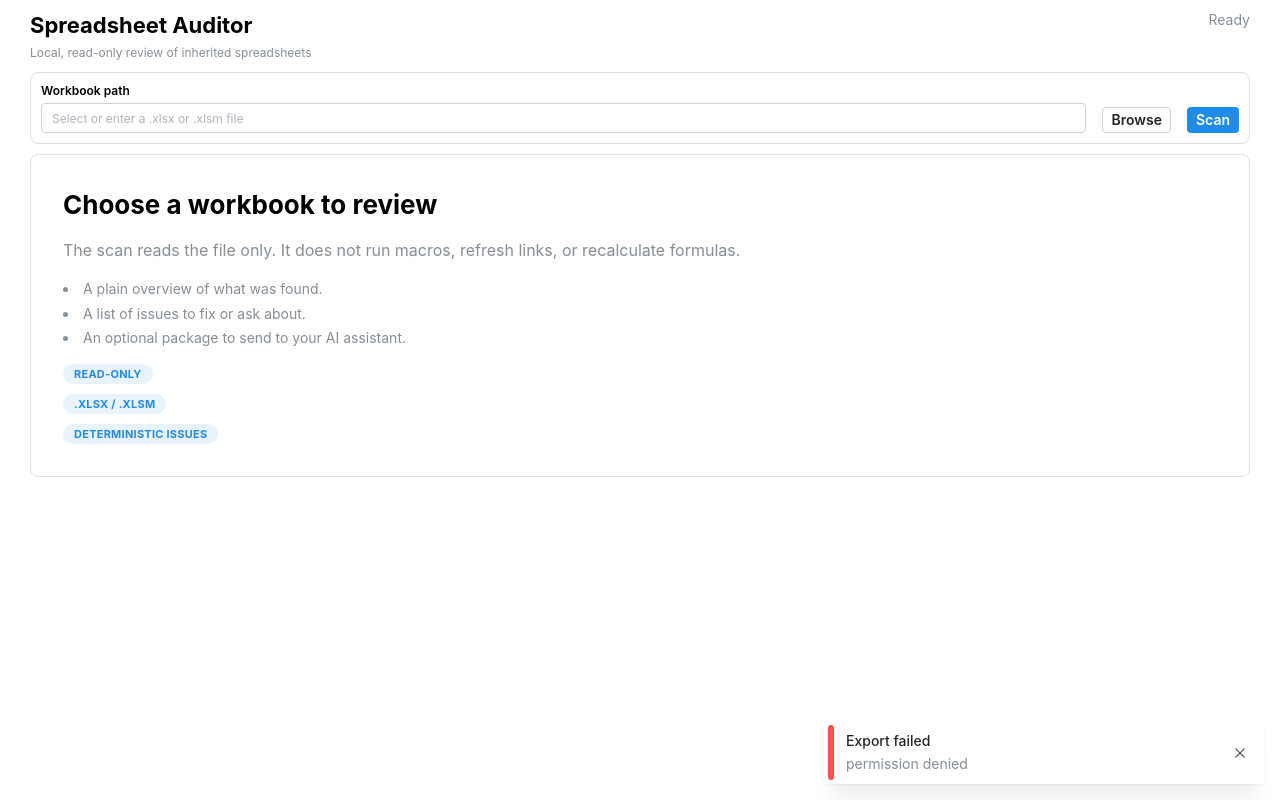
Test: App export flow › shows a clear message when the desktop bridge is unavailable during scan
Type "/tmp/sample.xlsx" into the field with test id "workbook-path".
click(564, 118); type("/tmp/sample.xlsx")  # box [41,103,1086,133]
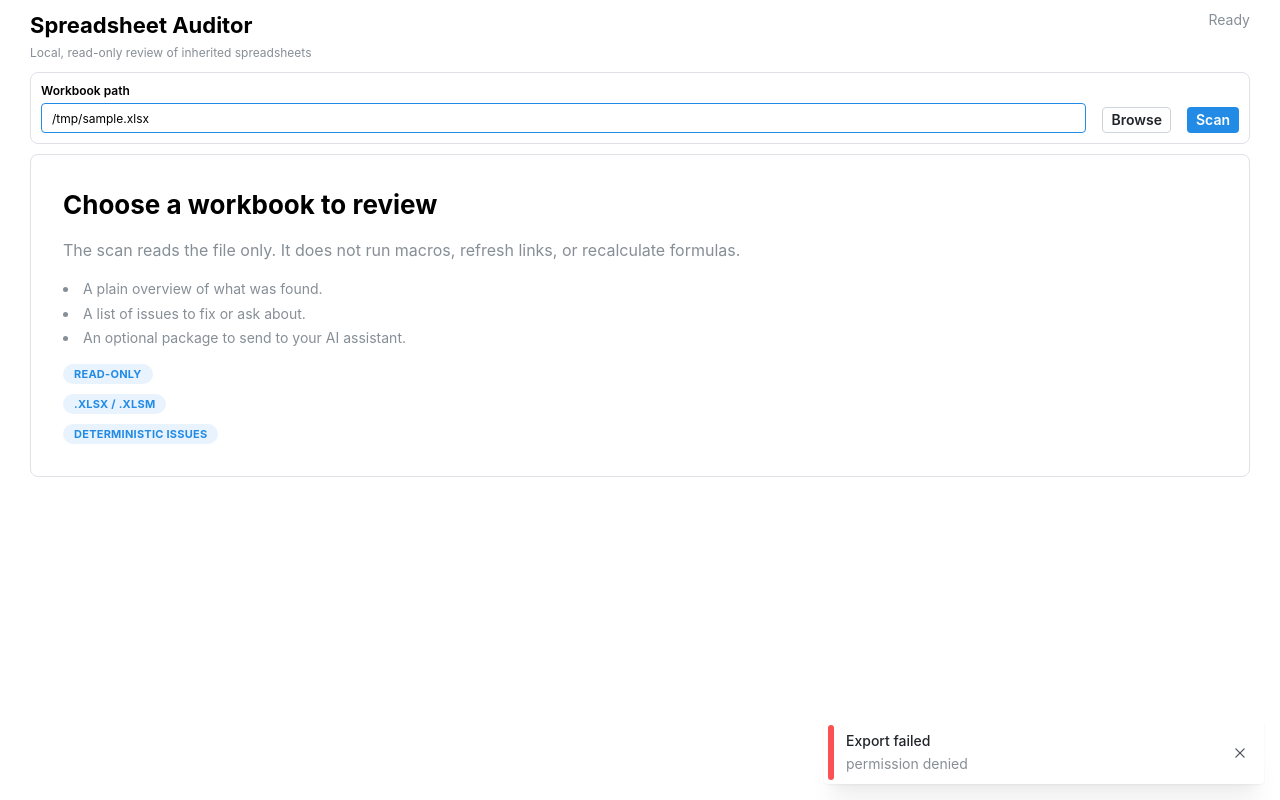
Click the button with test id "scan-btn".
click(1213, 120)  # box [1187,107,1239,133]
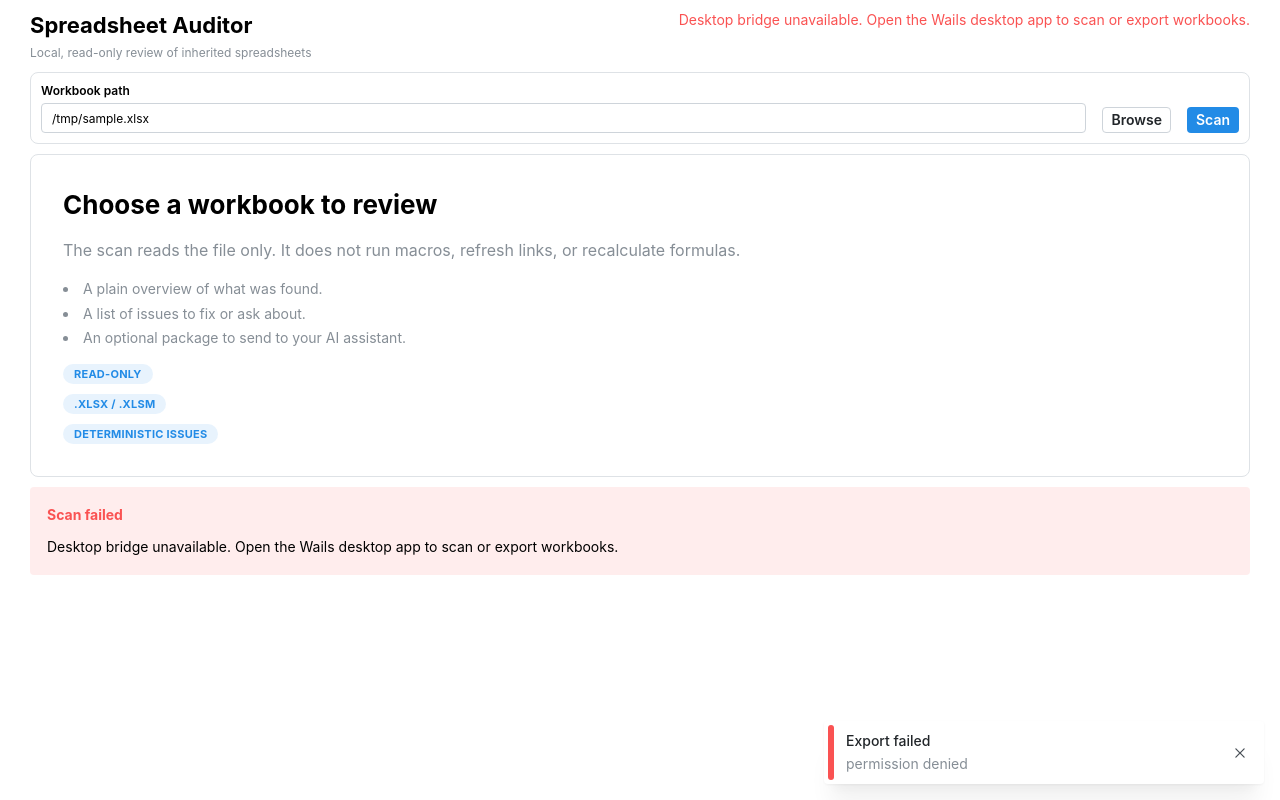
Expected: the message with test id "status" shows "Desktop bridge unavailable", [679,11,1250,28]
Expected: the message with test id "scan-error" shows "Open the Wails desktop app", [47,538,618,555]
